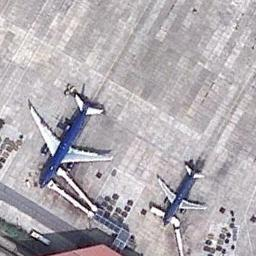Airplane: (24, 90, 117, 191), (151, 160, 209, 227)
